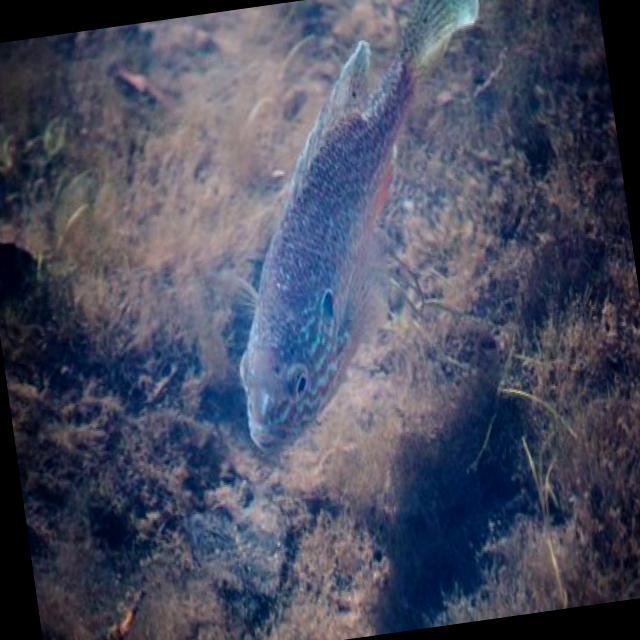Gunes Levregi: (170, 0, 537, 468)
